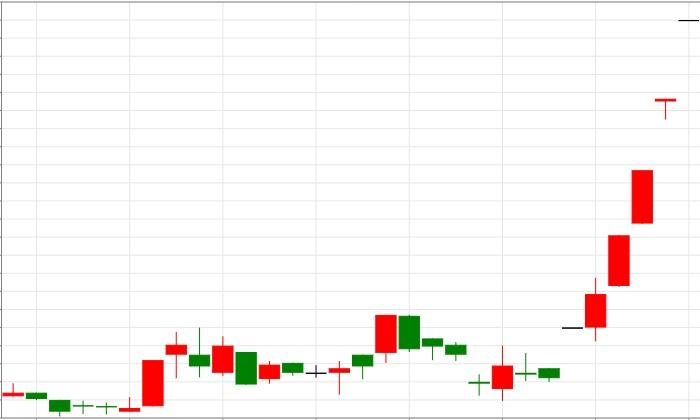bullish_engulfing_rise: (374, 314, 514, 401)
